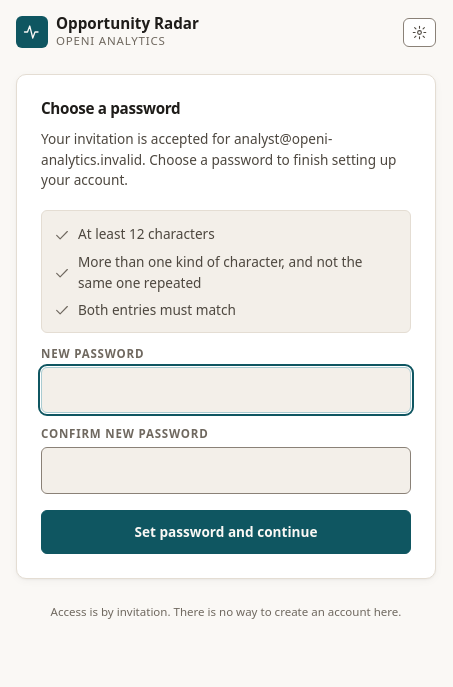
choosing a password › stays on the form when the provider refuses the password
Check: the heading "Choose a password" is shown, box [41, 98, 180, 118]
Type "correct-horse-battery-9" into the password field labelled "New password" at (226, 390), box [41, 367, 411, 413]
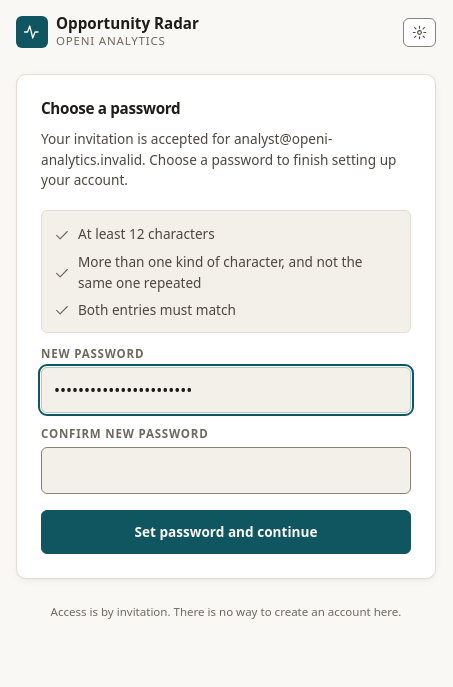
Type "correct-horse-battery-9" into the password field labelled "Confirm new password" at (226, 471), box [41, 447, 411, 494]
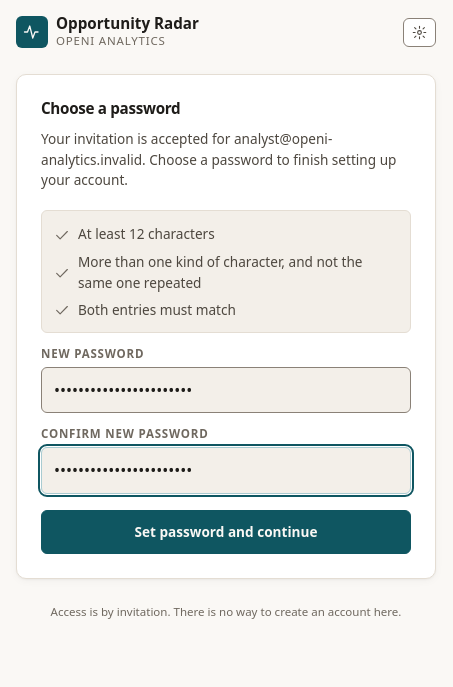
Click the button "Set password and continue" at (226, 532), box [41, 510, 411, 554]
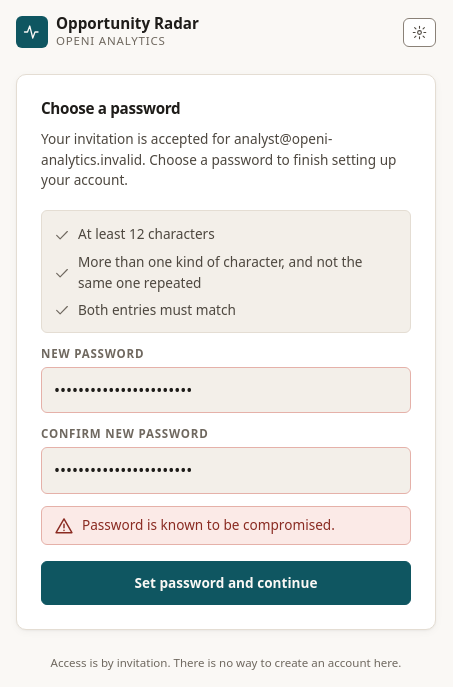
Check: the message shows "known to be compromised", box [82, 515, 335, 534]
